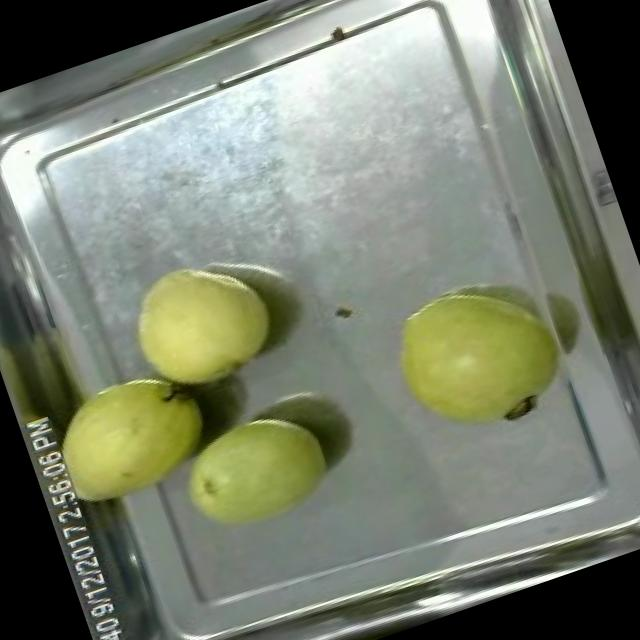Fruit: (368, 260, 574, 458), (29, 350, 230, 526), (105, 235, 293, 412), (158, 391, 348, 555)
